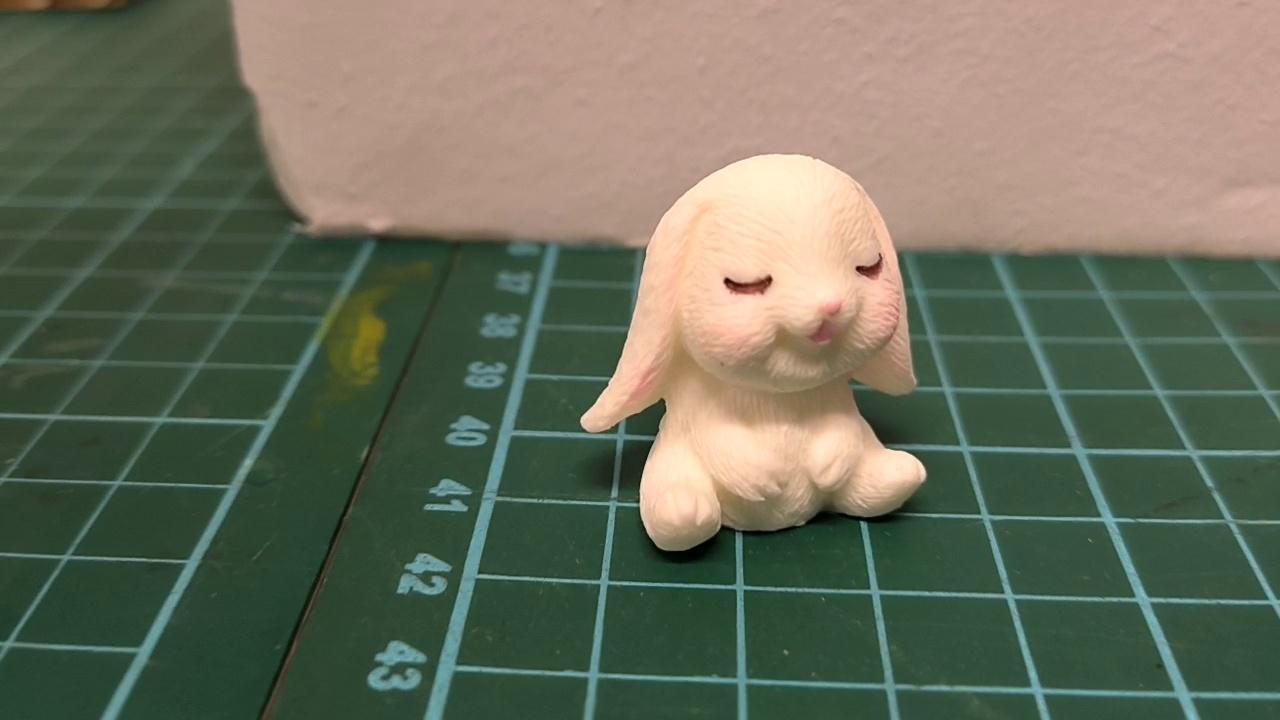pet: (582, 154, 926, 553)
